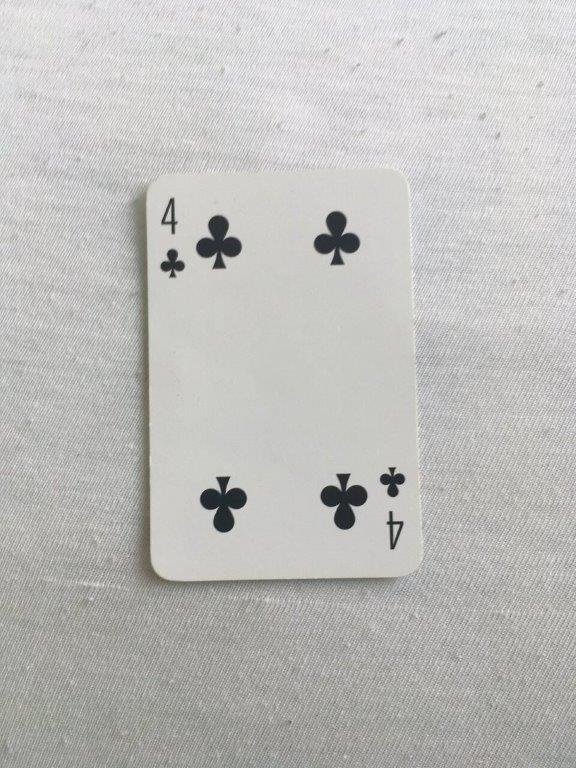4C: (142, 164, 426, 584)
